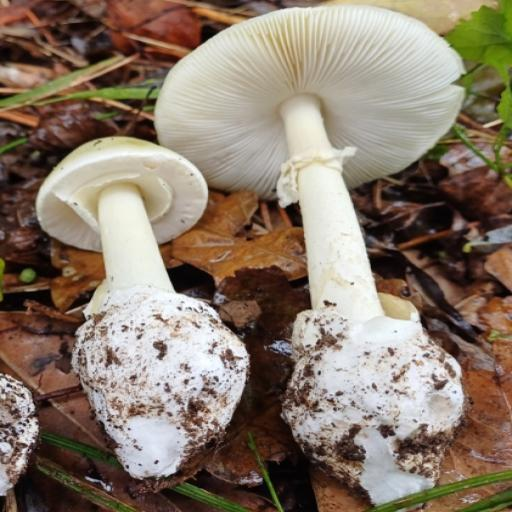mushroom: (141, 0, 477, 215), (31, 248, 280, 498), (270, 287, 477, 512), (262, 86, 385, 332), (29, 126, 213, 258), (77, 176, 174, 311)
